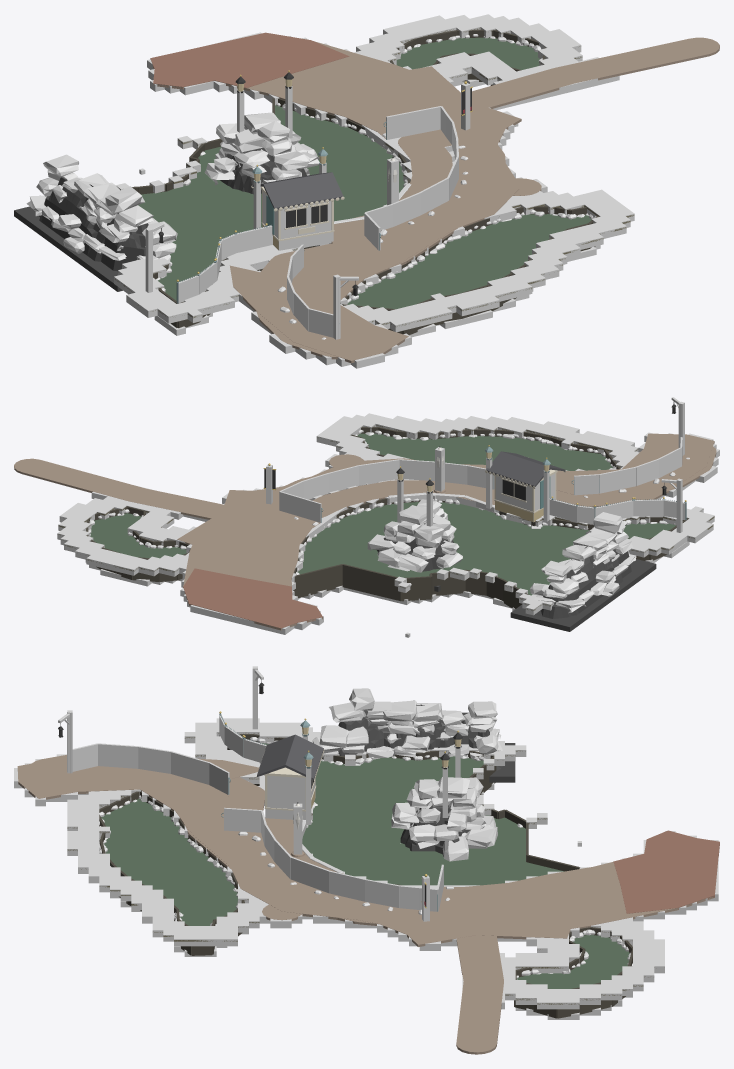
The model's file is ZZ_omgeving.fbx.
3 renders of one model, top to bottom at view 1: azimuth 30°, elevation 25°; view 2: azimuth 150°, elevation 25°; view 3: azimuth 270°, elevation 25°, orthographic. The views are drawn at different scales.
Visible parts, largest first — view 1: static__MAT_beton_0, static__MAT_water_0, static__TEX_rots_0, static__MAT_klinker_0, static__MAT_kern_0, static__MAT_bodem_0, static__MAT_dak_0, static__TEX_oeversteen_0, COLL_5, COLL_20, COLL_38, COLL_37 (+18 smaller); view 2: static__MAT_beton_0, static__MAT_water_0, static__TEX_rots_0, static__MAT_bodem_0, static__MAT_klinker_0, static__MAT_kern_0, static__TEX_oeversteen_0, static__MAT_dak_0, COLL_38, COLL_20, static__MAT_grond_0, COLL_15 (+29 smaller); view 3: static__MAT_beton_0, static__MAT_water_0, static__TEX_rots_0, static__MAT_klinker_0, static__MAT_bodem_0, static__MAT_kern_0, static__MAT_dak_0, COLL_5, static__TEX_oeversteen_0, COLL_38, COLL_7, COLL_15 (+12 smaller).
Boxes of the visible parts, x1,y1,x2,y2 form: static__MAT_beton_0: (150,37,719,363); static__MAT_water_0: (138,37,591,308); static__TEX_rots_0: (26,34,593,302); static__MAT_klinker_0: (150,32,349,89); static__MAT_kern_0: (14,147,306,291); static__MAT_bodem_0: (132,29,598,335); static__MAT_dak_0: (252,172,343,209); static__TEX_oeversteen_0: (156,34,596,339); COLL_5: (263,192,333,250); COLL_20: (386,106,440,139); COLL_38: (274,274,545,349); COLL_37: (375,282,532,328); static__MAT_beton_0: (14,433,716,630); static__MAT_water_0: (90,433,675,595); static__TEX_rots_0: (88,430,675,613); static__MAT_bodem_0: (86,427,686,608); static__MAT_klinker_0: (183,568,322,629); static__MAT_kern_0: (377,537,656,631); static__TEX_oeversteen_0: (89,429,689,574); static__MAT_dak_0: (486,451,565,486); COLL_38: (487,416,712,479); COLL_20: (279,491,321,522); static__MAT_grond_0: (57,425,714,610); COLL_15: (358,459,399,485); static__MAT_beton_0: (17,755,719,1054); static__MAT_water_0: (101,743,629,988); static__TEX_rots_0: (99,688,630,979); static__MAT_klinker_0: (613,830,719,913); static__MAT_bodem_0: (99,734,632,1018); static__MAT_kern_0: (338,704,515,856); static__MAT_dak_0: (257,734,323,780); COLL_5: (265,775,315,819); static__TEX_oeversteen_0: (99,737,632,978); COLL_38: (88,791,99,883); COLL_7: (98,743,138,768); COLL_15: (290,857,329,893).
Bounding box in the file's own units: 37.04 × 6.84 × 33.07.
